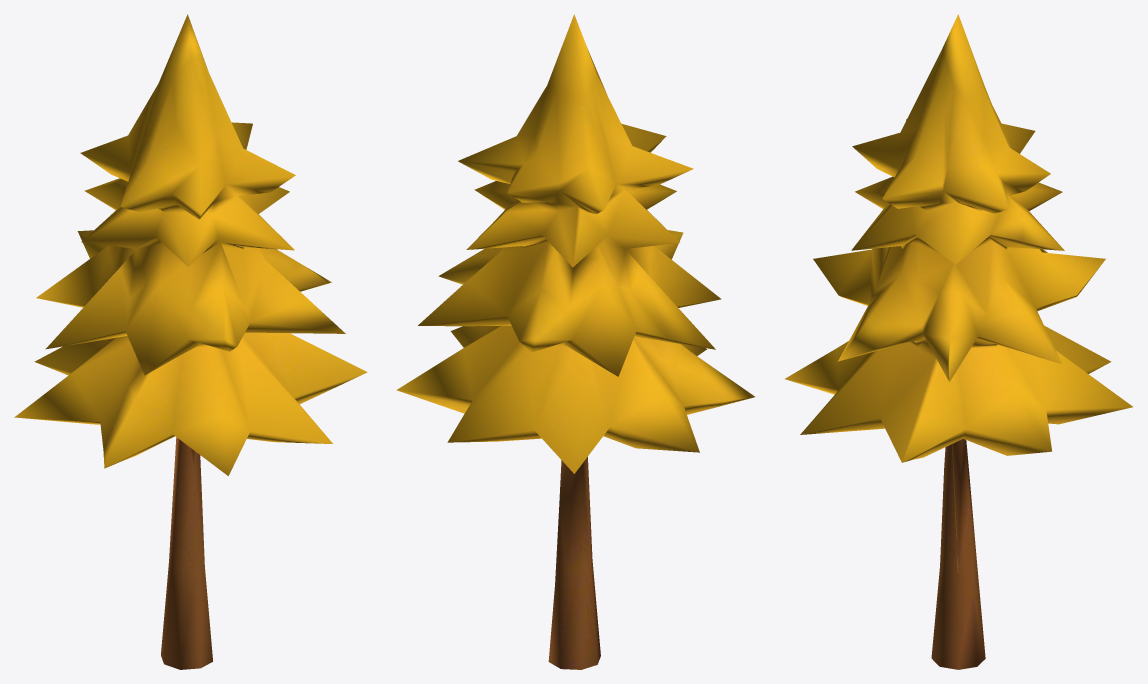
Rendered from larch.glb.
3 views of the same model, side by side, from view 1: azimuth 30°, elevation 25°; view 2: azimuth 150°, elevation 25°; view 3: azimuth 270°, elevation 25° (orthographic).
Parts seen in each view (by area): view 1: tripo_node_57ef6b37-1736-4f7e-80d2-79362896c563; view 2: tripo_node_57ef6b37-1736-4f7e-80d2-79362896c563; view 3: tripo_node_57ef6b37-1736-4f7e-80d2-79362896c563.
Boxes of the visible parts, x1=… form: tripo_node_57ef6b37-1736-4f7e-80d2-79362896c563: x1=14, y1=14, x2=367, y2=669; tripo_node_57ef6b37-1736-4f7e-80d2-79362896c563: x1=396, y1=14, x2=754, y2=669; tripo_node_57ef6b37-1736-4f7e-80d2-79362896c563: x1=785, y1=14, x2=1132, y2=669.
Bounding box in the file's own units: 4.4 × 9 × 4.42.
1 material, 1 textured.
